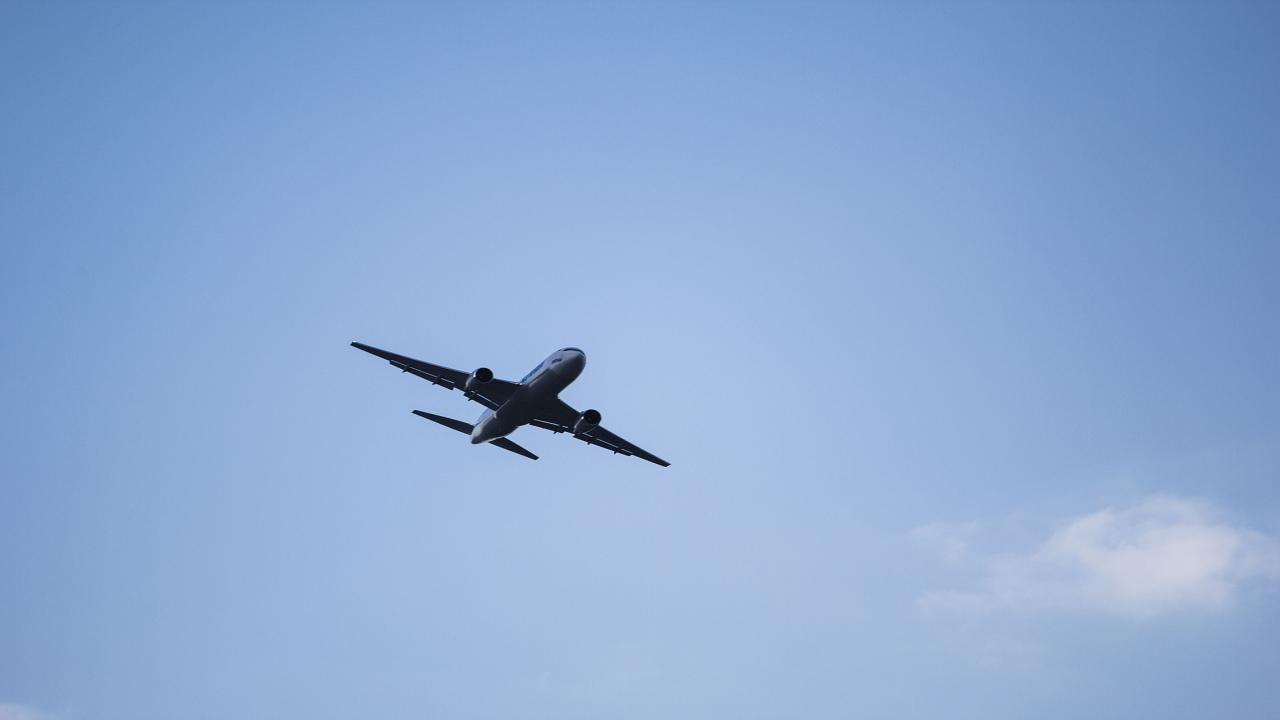Airplane: (338, 328, 682, 481)
